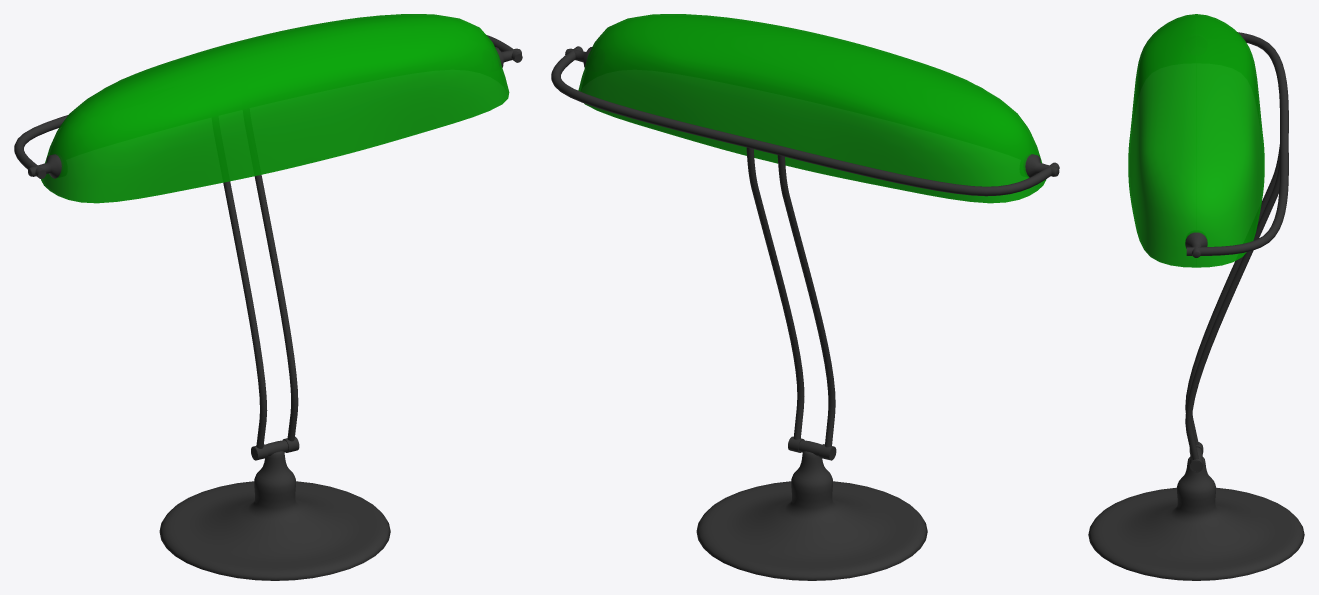
File: Lamp.FBX
The picture shows the model from 3 angles, left to right: view 1: azimuth 30°, elevation 25°; view 2: azimuth 150°, elevation 25°; view 3: azimuth 270°, elevation 25°; orthographic projection. The views are drawn at different scales.
Visible parts, largest first — view 1: Lamp_Glass, Lamp_Foot, Lamp_Tubes, Lamp_GlassHolder; view 2: Lamp_Glass, Lamp_Foot, Lamp_Tubes, Lamp_GlassHolder, Lamp_Joint; view 3: Lamp_Glass, Lamp_Foot, Lamp_Tubes, Lamp_GlassHolder, Lamp_Joint.
Boxes of the visible parts, x1,y1,x2,y2 form: Lamp_Glass: (41,14,509,203); Lamp_Foot: (159,451,390,580); Lamp_Tubes: (14,35,522,448); Lamp_GlassHolder: (28,47,521,178); Lamp_Glass: (578,14,1046,203); Lamp_Foot: (696,451,927,580); Lamp_Tubes: (551,46,1059,447); Lamp_GlassHolder: (565,47,1059,177); Lamp_Joint: (788,436,836,460); Lamp_Glass: (1128,14,1264,267); Lamp_Foot: (1088,457,1304,580); Lamp_Tubes: (1185,32,1288,459); Lamp_GlassHolder: (1185,232,1207,257); Lamp_Joint: (1189,442,1203,472).
Size of the model in its own units: 23.7 by 22.77 by 9.68.
